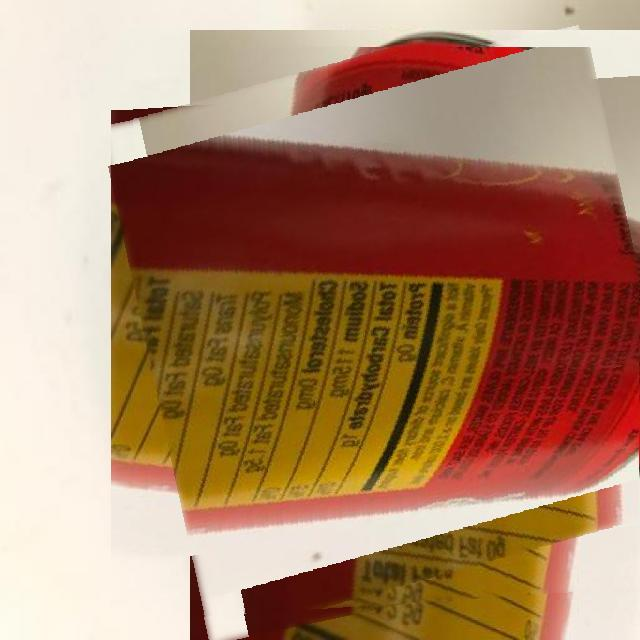recyclable: (125, 47, 640, 622)
